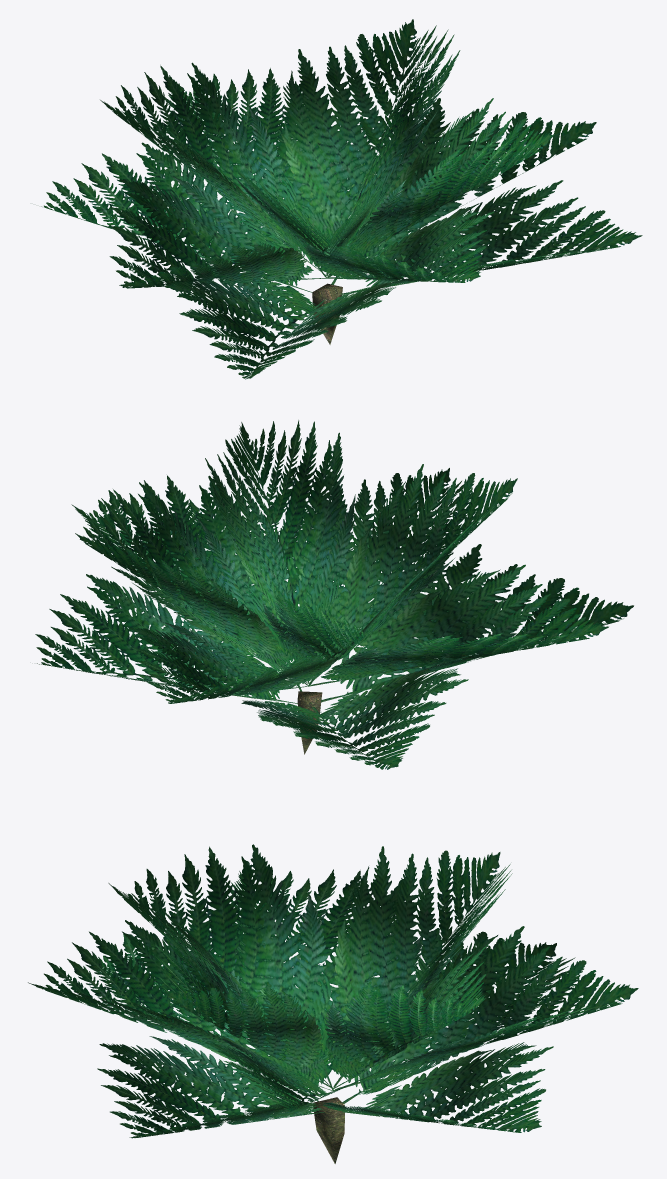
File: fern_giantfern_blue_l1.fbx
The picture shows the model from 3 angles, top to bottom: view 1: azimuth 30°, elevation 25°; view 2: azimuth 150°, elevation 25°; view 3: azimuth 270°, elevation 25°; orthographic projection. The views are drawn at different scales.
Visible parts, largest first — view 1: mesh_node; view 2: mesh_node; view 3: mesh_node.
Boxes of the visible parts, <box> form: mesh_node: <box>41,19,642,379</box>; mesh_node: <box>35,420,633,769</box>; mesh_node: <box>28,844,638,1163</box>.
Bounding box in the file's own units: 8.49 × 4.08 × 8.49.
